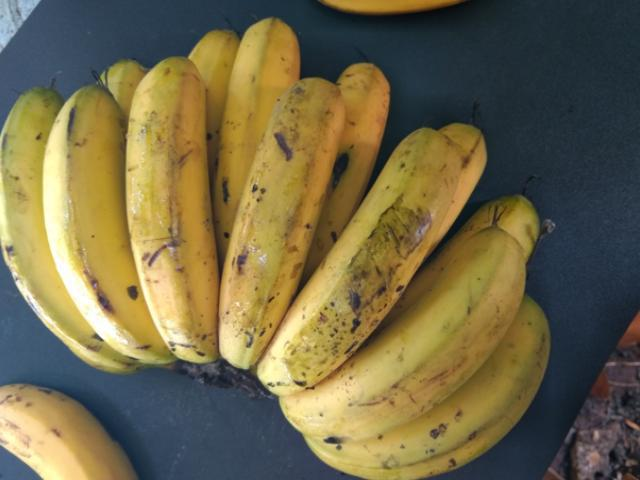ripe: (277, 234, 540, 444), (242, 139, 470, 380), (125, 52, 270, 407), (209, 69, 365, 368), (37, 74, 160, 355), (0, 368, 116, 479)
